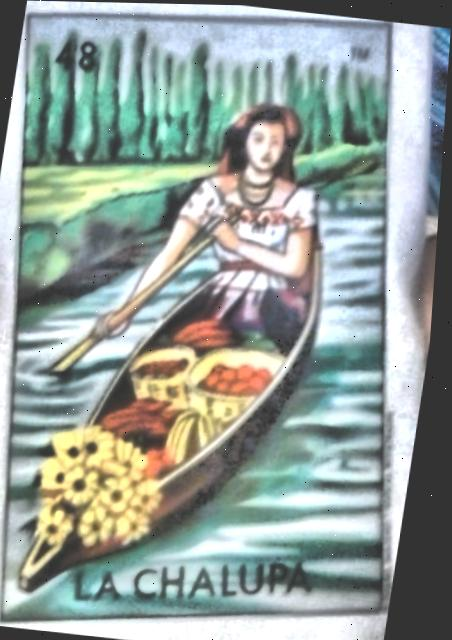La Chalupa: (8, 13, 388, 624)
